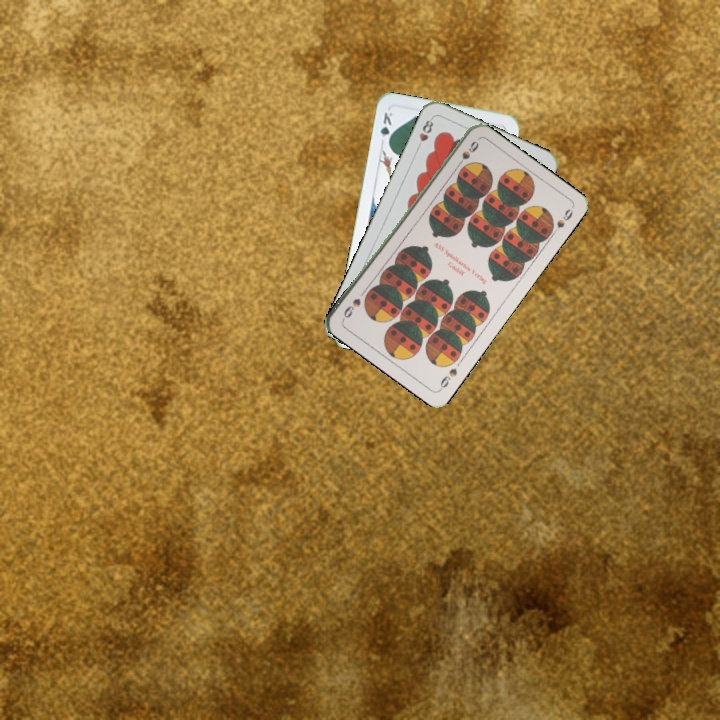GK: (376, 108, 395, 148)
H8: (413, 114, 436, 152)
S9: (452, 137, 480, 171), (436, 364, 460, 393)
